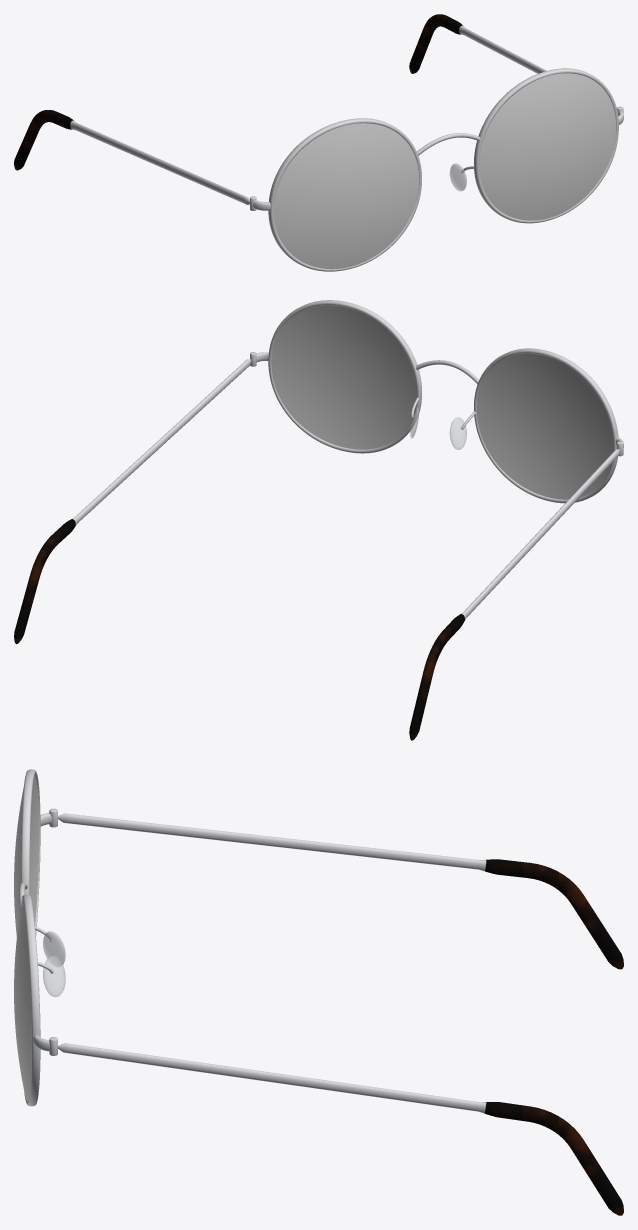
Rendered from ezra-l.glb.
3 renders of one model, top to bottom at view 1: azimuth 30°, elevation 25°; view 2: azimuth 150°, elevation 25°; view 3: azimuth 270°, elevation 25°, orthographic. The views are drawn at different scales.
Visible parts, largest first — view 1: Lens_R, Lens_L, Front, Temple_R, Temple_L, NosePads; view 2: Lens_L, Lens_R, Front, Temple_L, Temple_R, NosePads; view 3: Temple_L, Temple_R, Front, Lens_L, Lens_R, NosePads.
Part boxes in pixels (<box>): Lens_R: <box>274,123,419,269</box>; Lens_L: <box>479,73,615,220</box>; Front: <box>250,68,623,271</box>; Temple_R: <box>14,110,249,205</box>; Temple_L: <box>409,14,616,107</box>; NosePads: <box>449,163,466,191</box>; Lens_L: <box>271,305,416,449</box>; Lens_R: <box>476,353,613,499</box>; Front: <box>250,300,623,503</box>; Temple_L: <box>14,359,251,644</box>; Temple_R: <box>409,449,619,740</box>; NosePads: <box>410,407,466,449</box>; Temple_L: <box>58,1043,623,1215</box>; Temple_R: <box>58,813,623,969</box>; Front: <box>19,769,57,1106</box>; Lens_L: <box>14,899,31,1101</box>; Lens_R: <box>14,775,39,936</box>; NosePads: <box>43,931,65,997</box>.
Size of the model in its own units: 0.1423 by 0.0659 by 0.1461.
6 materials, 1 textured.
